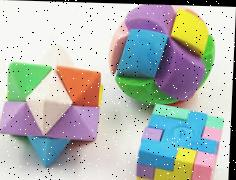cube: (136, 102, 227, 180)
